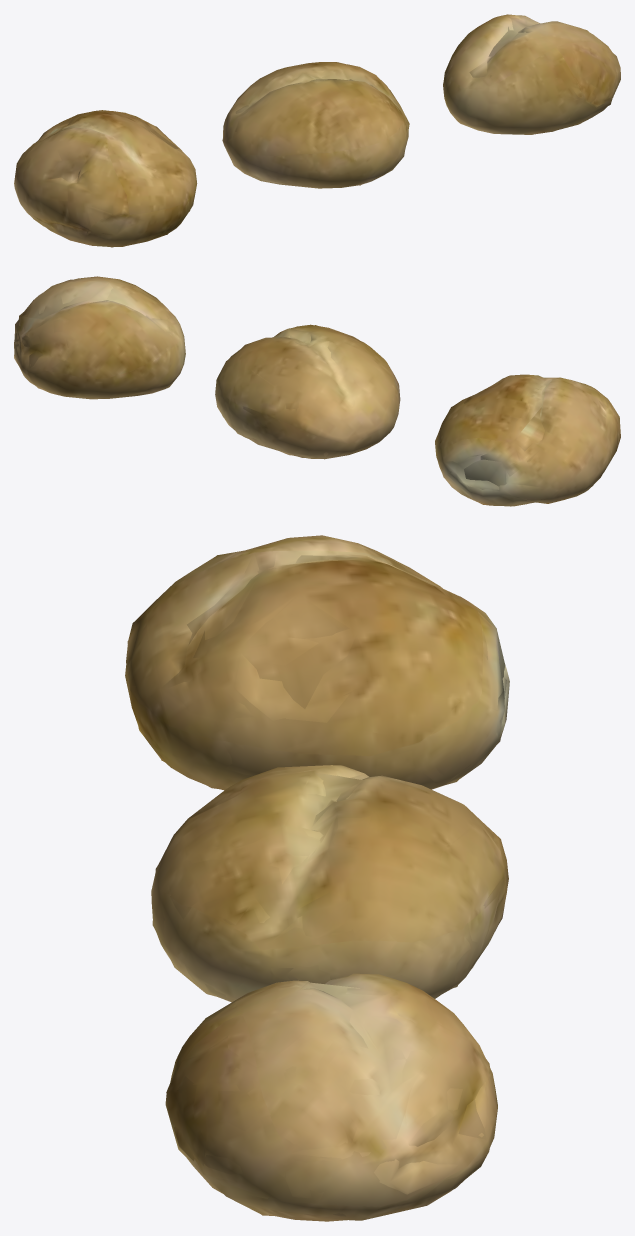
Rendered from imp-hamburger-buns.glb.
3 views of the same model, one above another, from view 1: azimuth 30°, elevation 25°; view 2: azimuth 150°, elevation 25°; view 3: azimuth 270°, elevation 25° (orthographic). The views are drawn at different scales.
Visible parts, largest first — view 1: hamburger_buns_01 (×3); view 2: hamburger_buns_01 (×3); view 3: hamburger_buns_01 (×3).
Boxes of the visible parts, <box> form: hamburger_buns_01 (×3): <box>14,14,620,247</box>; hamburger_buns_01 (×3): <box>14,276,620,506</box>; hamburger_buns_01 (×3): <box>125,535,509,1221</box>.
Size of the model in its own units: 0.25 by 0.0399 by 0.0717.
1 material, 1 textured.
